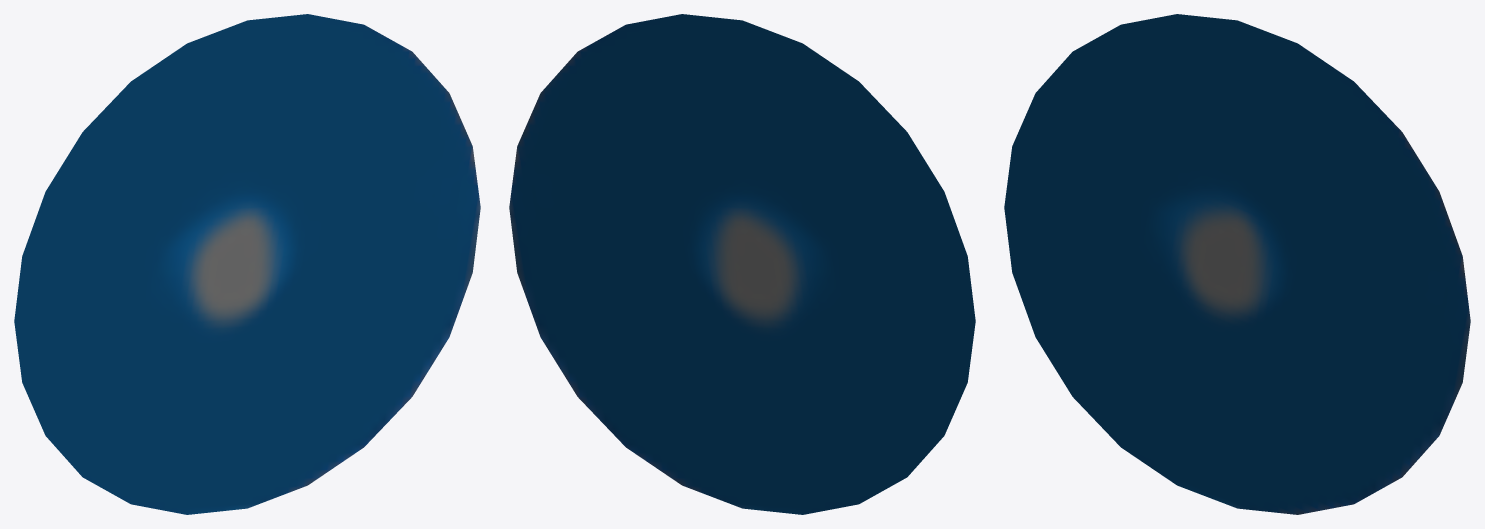
Rendered from battle_player_mana.DAE.
3 views of the same model, side by side, from view 1: azimuth 30°, elevation 25°; view 2: azimuth 150°, elevation 25°; view 3: azimuth 330°, elevation 25° (orthographic).
Parts seen in each view (by area): view 1: Cylinder102; view 2: Cylinder102; view 3: Cylinder102.
Boxes of the visible parts, left/top/right/bottom form: Cylinder102: left=14, top=14, right=480, bottom=514; Cylinder102: left=509, top=14, right=975, bottom=514; Cylinder102: left=1004, top=14, right=1470, bottom=514.
Size of the model in its own units: 98.39 by 98.39 by 0.
Materials: 1 (1 with a texture image).
